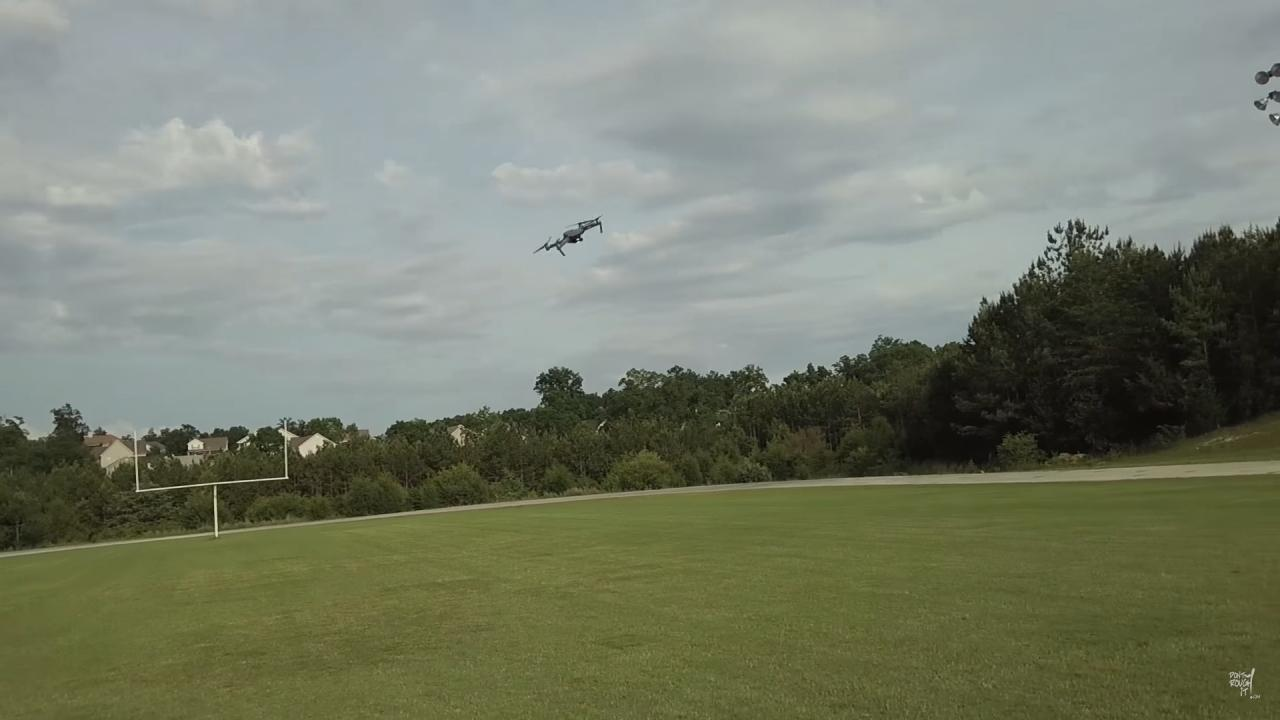Drone: (516, 206, 616, 271)
